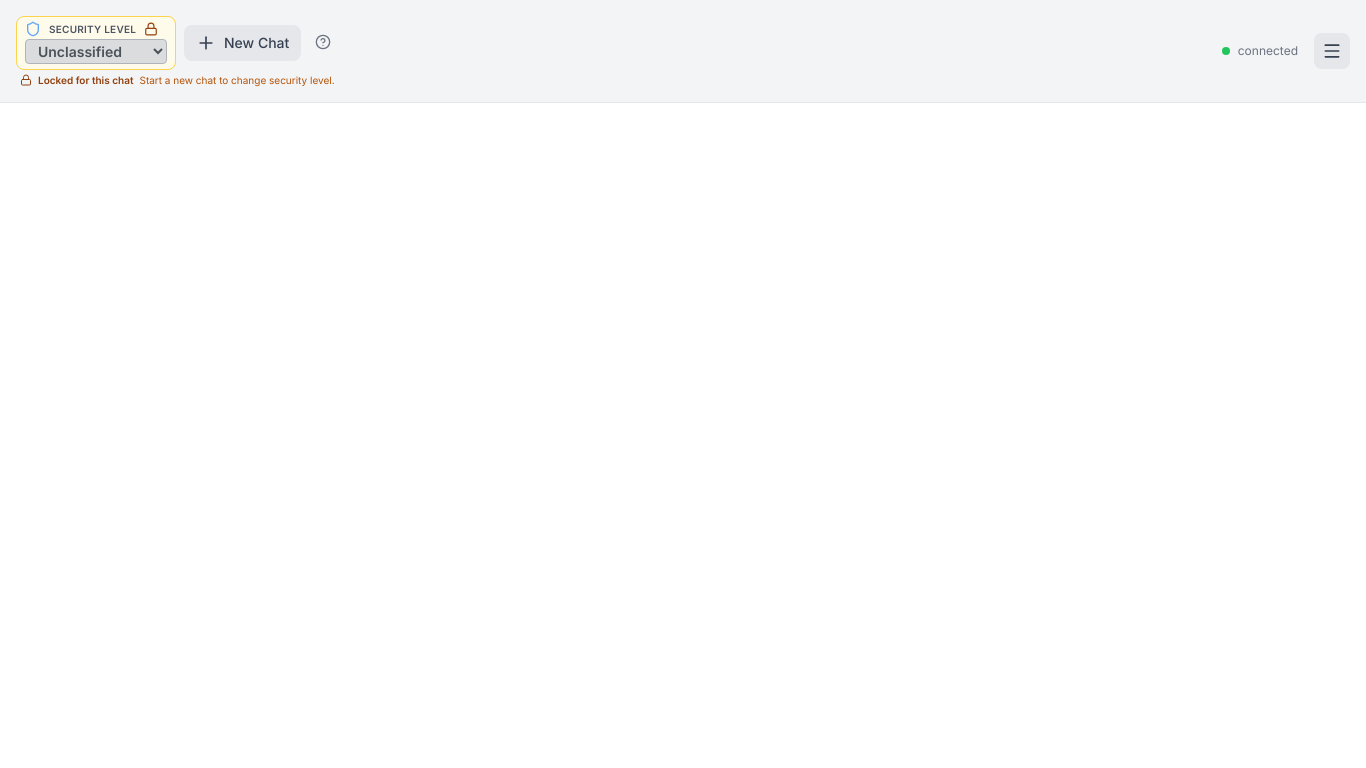
header compliance selector lock (issue #1044) › locks an unclassified conversation behind a placeholder option
Click the button titled "Menu" at {"x": 1332, "y": 51}, box left=1314, top=33, right=1350, bottom=69
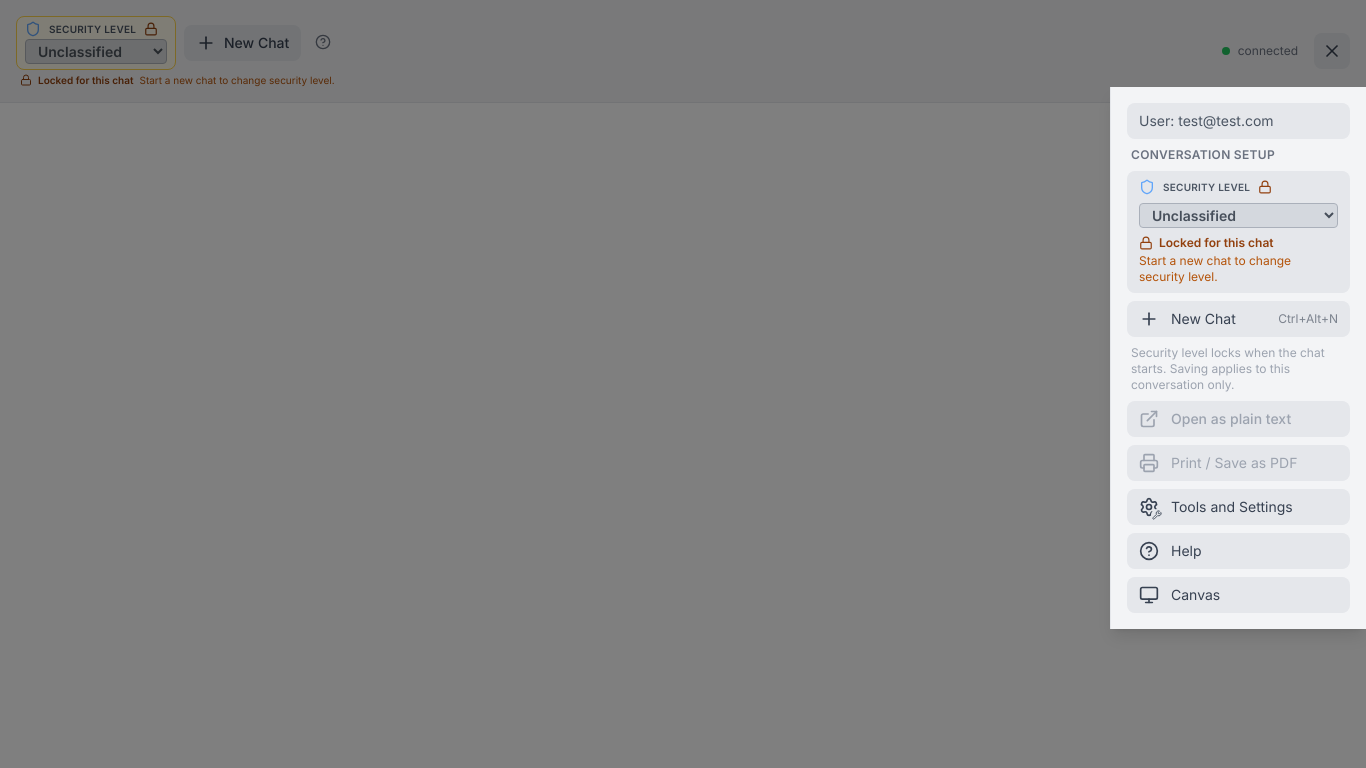
Expected: the number of dropdowns labelled "Security level" is 2, left=25, top=39, right=167, bottom=64; left=1139, top=203, right=1338, bottom=228
Expected: the dropdown labelled "Security level" is disabled, left=1139, top=203, right=1338, bottom=228
Expected: the dropdown labelled "Security level" shows "Unclassified", left=1139, top=203, right=1338, bottom=228
